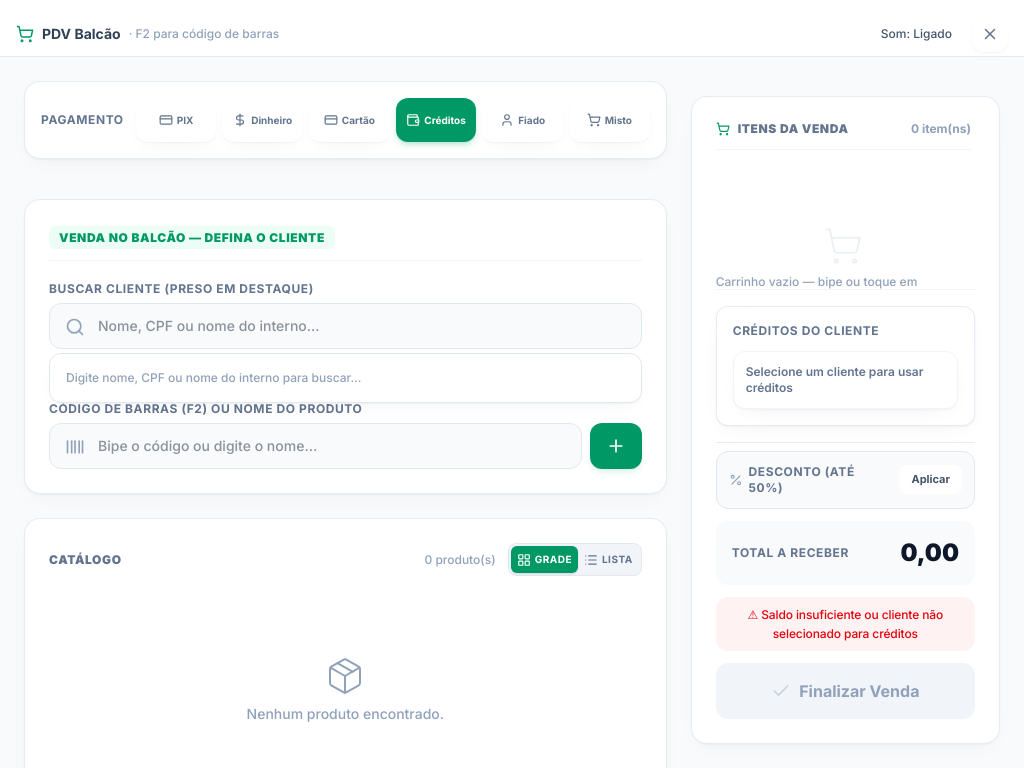
lista de clientes do PDV — preso é o destaque, familiar é apoio › cai para o CPF do interno quando o responsável não tem CPF
Type "MARIA" into the field with placeholder "Nome, CPF ou nome do interno..." at x=345, y=326, box [49,303,642,349]
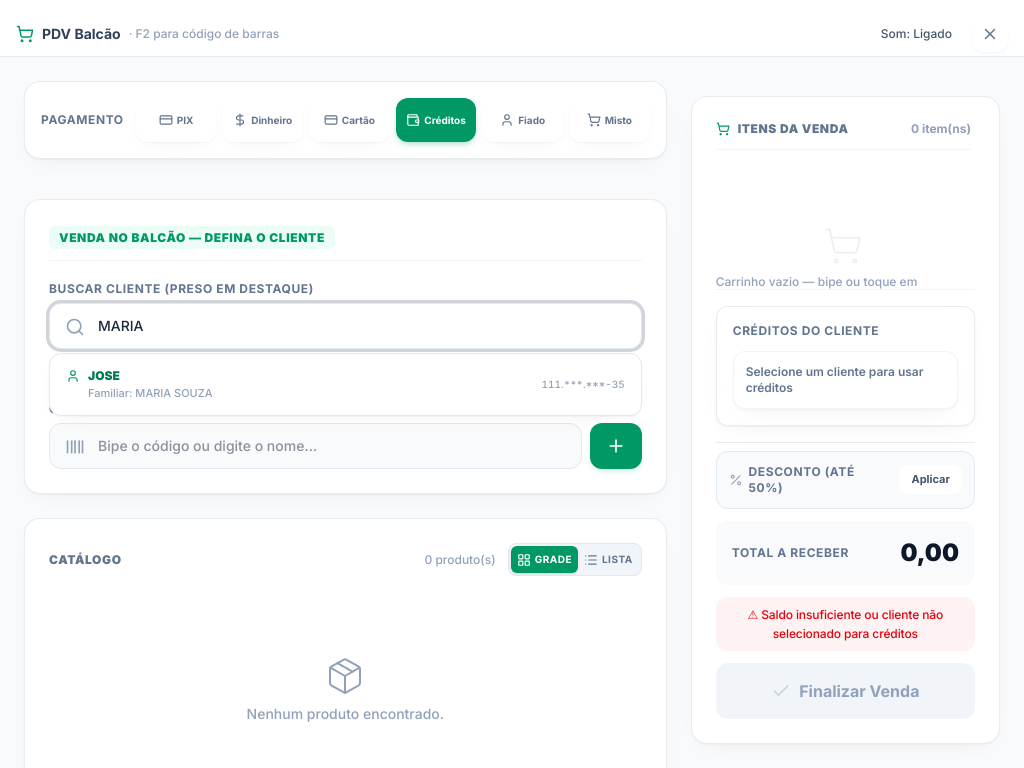
Check: the button "JOSE Familiar: MARIA SOUZA 111.***.***-35" is shown, box [54,358,637,411]
